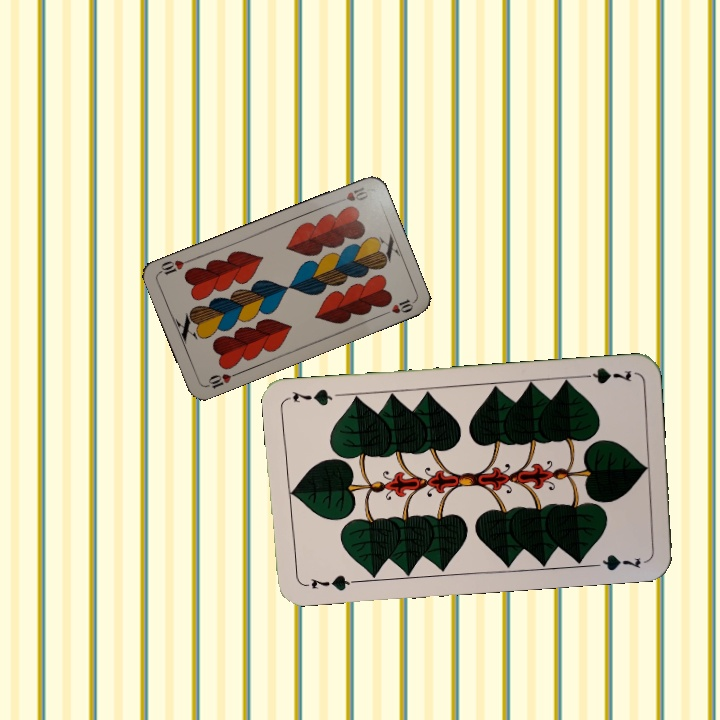G7: (575, 363, 634, 387), (299, 571, 359, 594)
H10: (202, 368, 241, 392), (332, 183, 371, 206)
